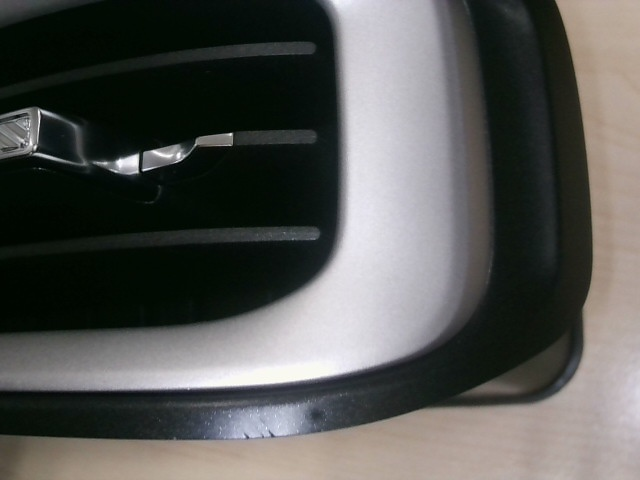NG: (227, 410, 290, 445)
